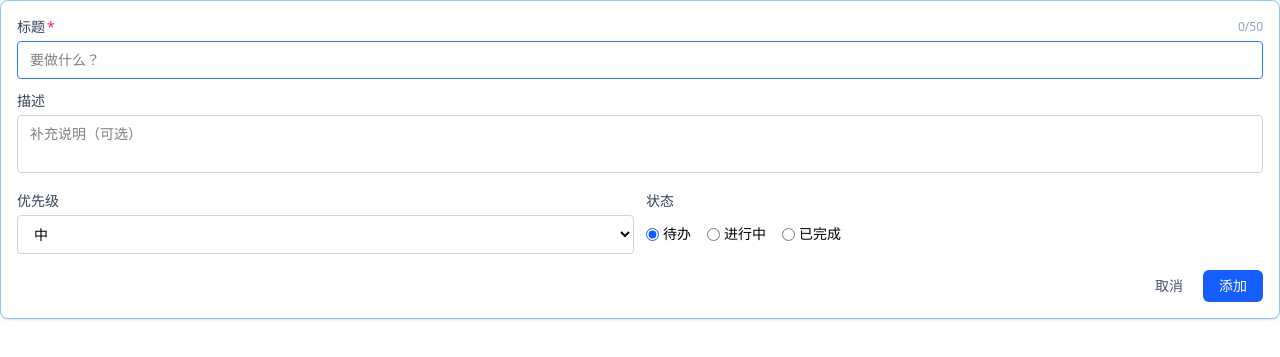
it: TaskForm › 标题太短时不提交，并显示错误
Type "a" into the field labelled "标题*". click: (640, 60)
box: [17, 41, 1263, 79]
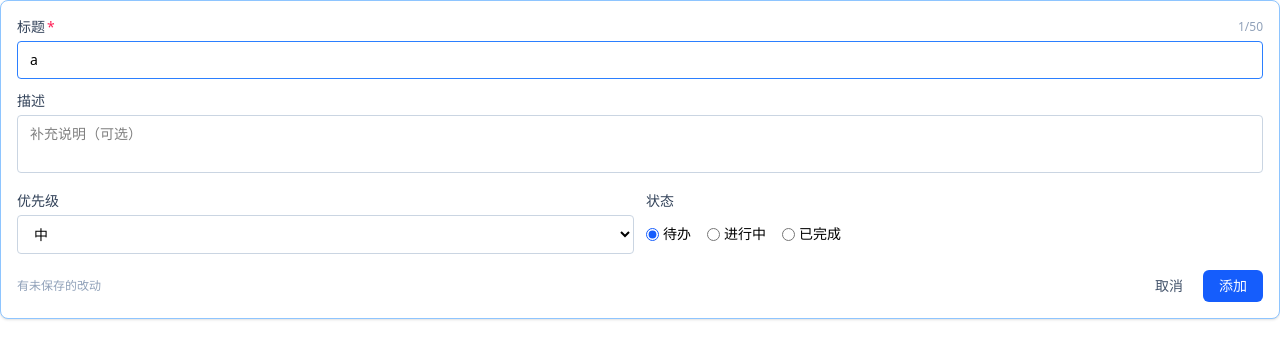
Click the button "添加". click: click(1233, 286)
box: [1203, 270, 1263, 302]
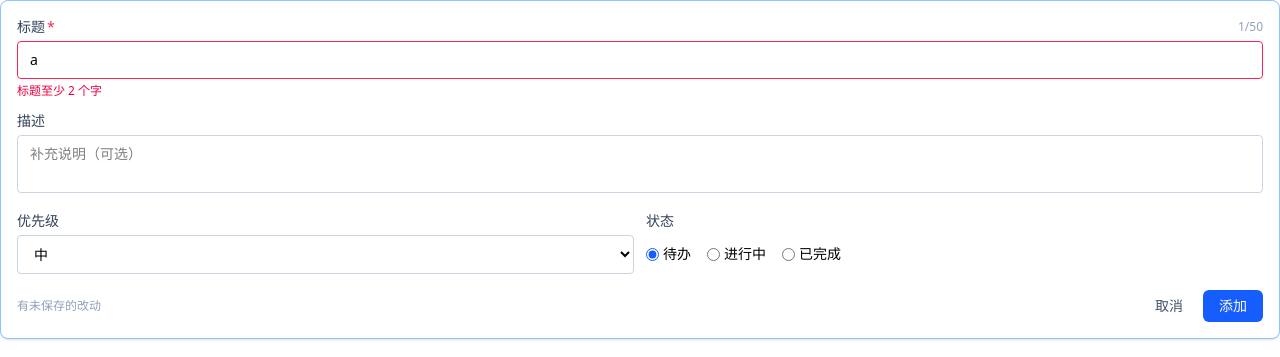
Check: the text "标题至少 2 个字" is shown, box [17, 82, 102, 99]
